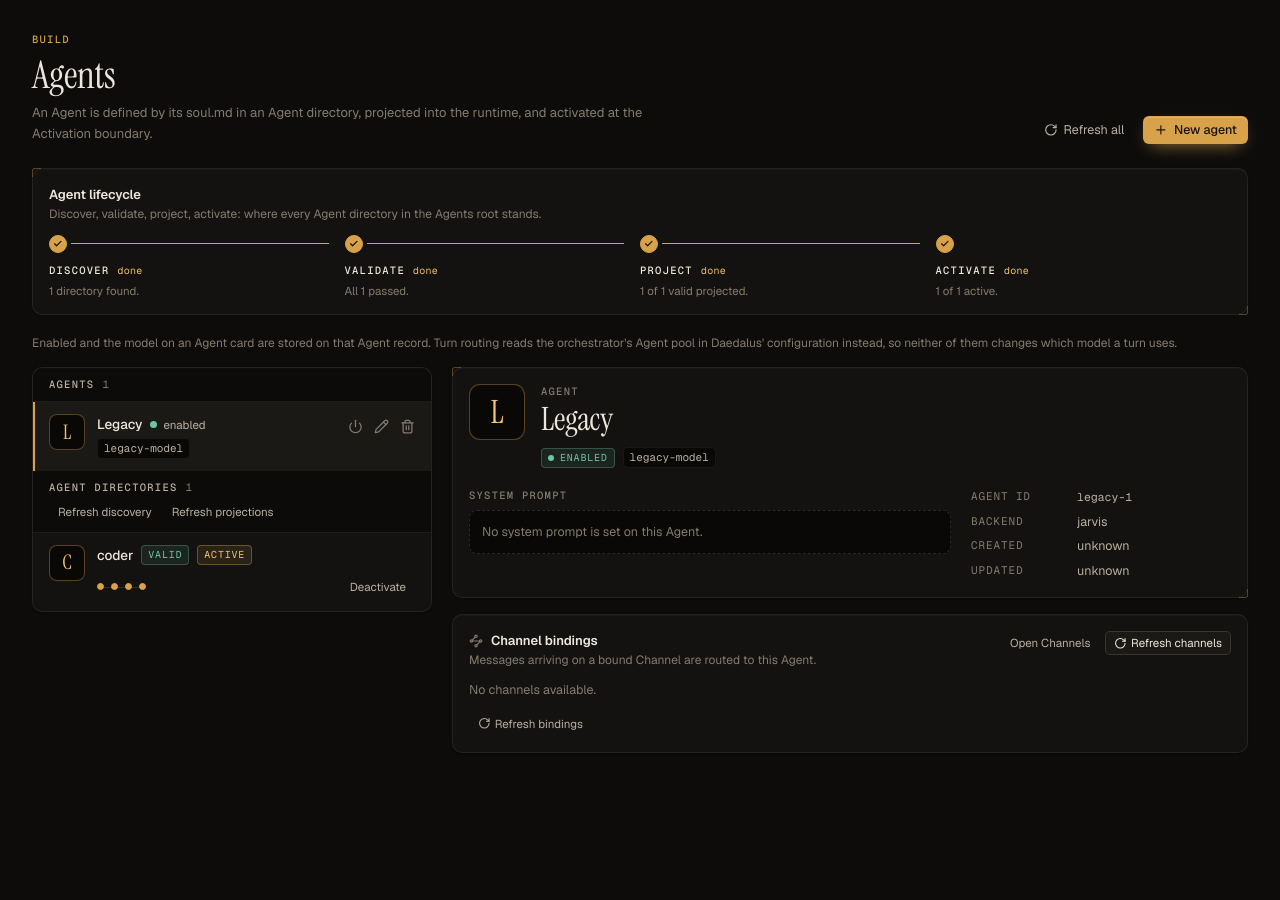
Test: Agent lifecycle activation › shows a changed source as stale and allows a fresh activation
Expected: the button "coder" is shown, [97, 545, 133, 565]
Expected: the button with aria-label "Deactivate agent coder" is enabled, [341, 575, 415, 599]
Step 1. Click the button "Refresh discovery" → click(105, 512), box [49, 500, 161, 524]
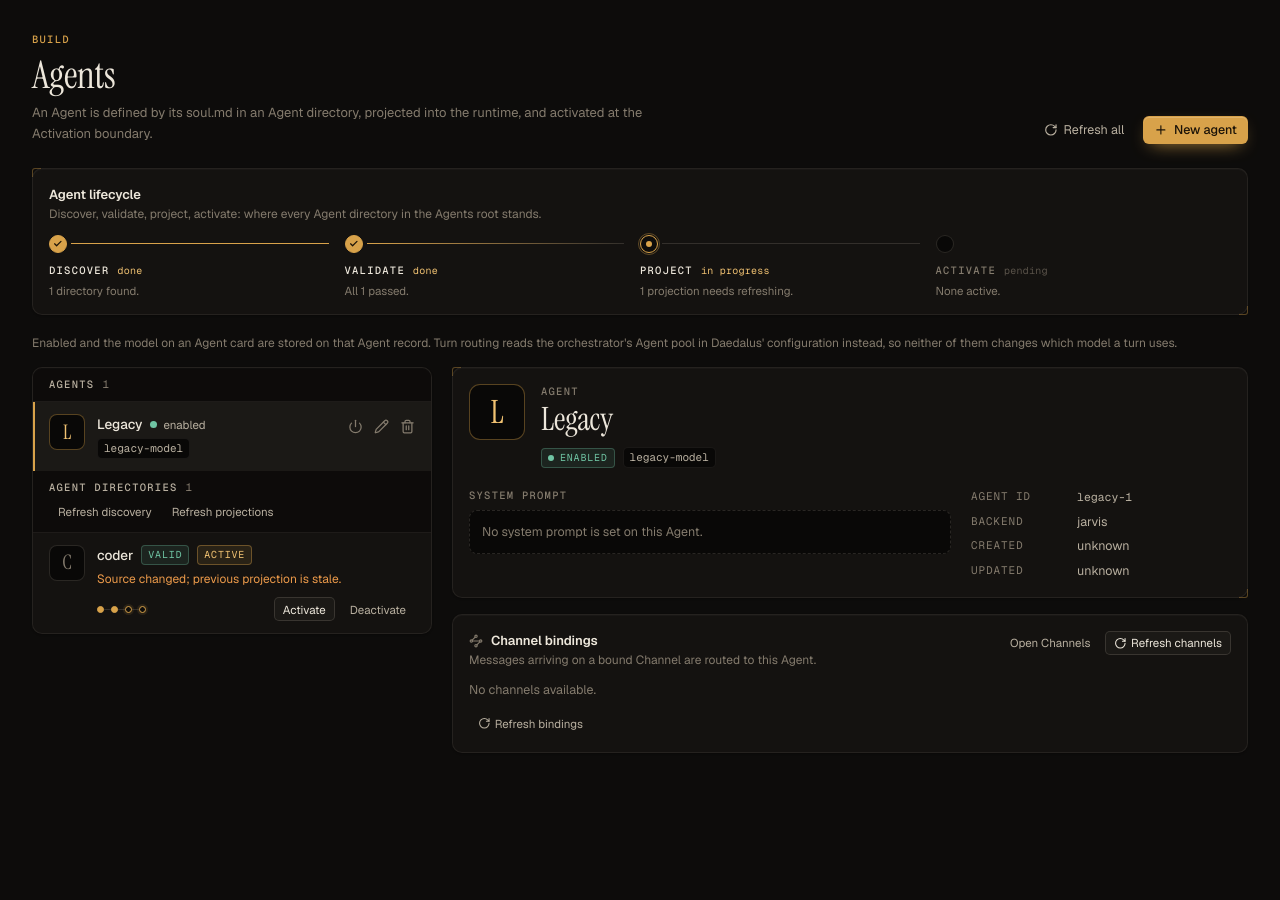
Expected: the button with aria-label "Deactivate agent coder" is enabled, [341, 598, 415, 622]
Result: the text "Source changed; previous projection is stale." is shown at [97, 571, 341, 587]
Result: the button with aria-label "Activate agent coder" is enabled at [274, 598, 335, 622]
